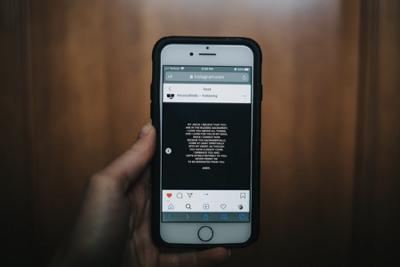cell-phone: (150, 33, 260, 248)
